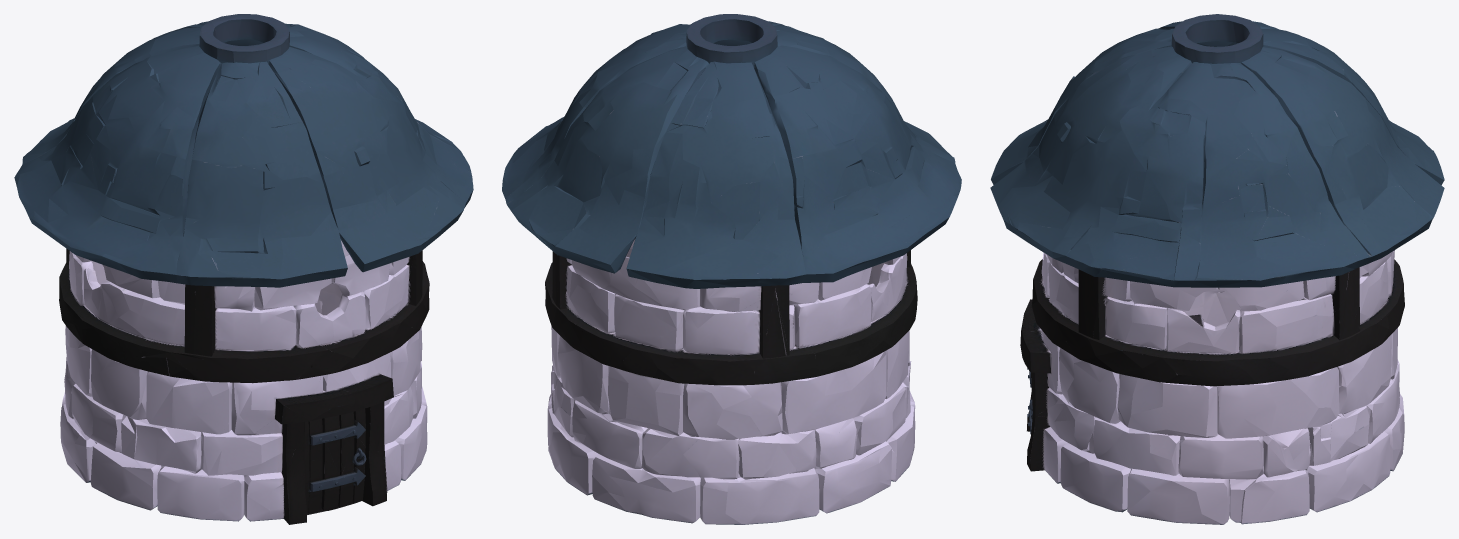
The model's file is body.glb.
3 renders of one model, left to right at view 1: azimuth 30°, elevation 25°; view 2: azimuth 150°, elevation 25°; view 3: azimuth 270°, elevation 25°, orthographic.
Bounding box in the file's own units: 1.9 × 1.9 × 1.89.
Materials: 1 (1 with a texture image).
